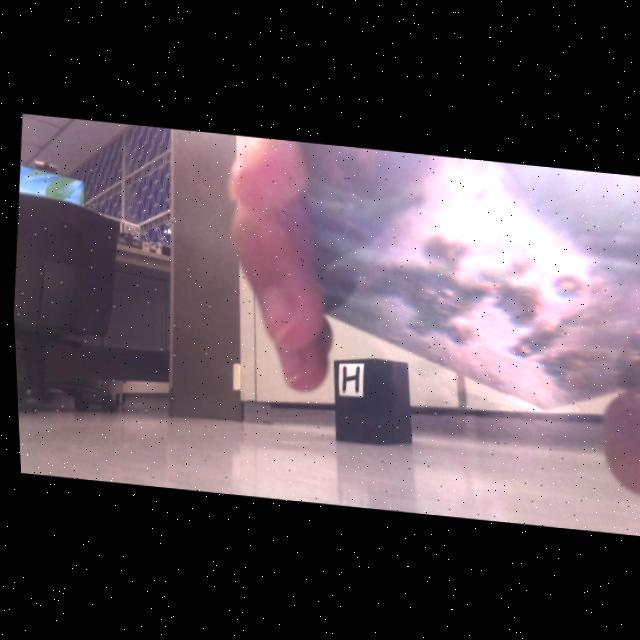H: (338, 365, 356, 392)
